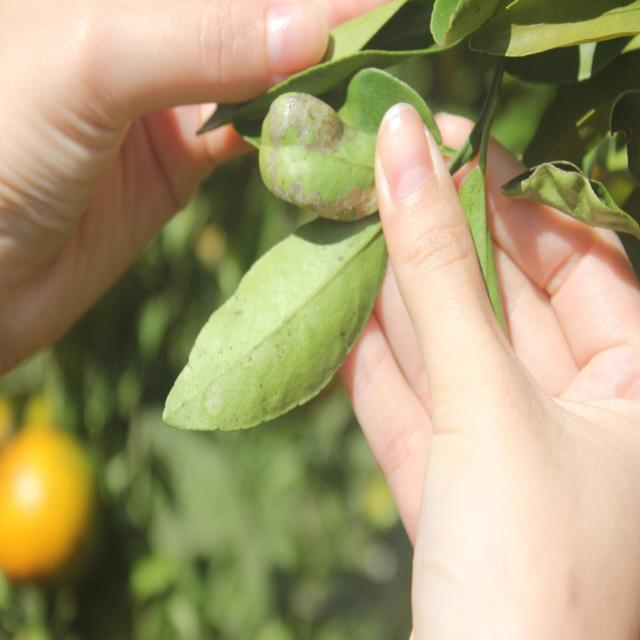melanose: (160, 228, 382, 450)
